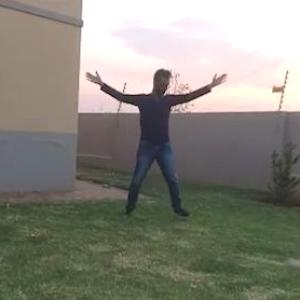takeoff: (82, 70, 221, 225)
